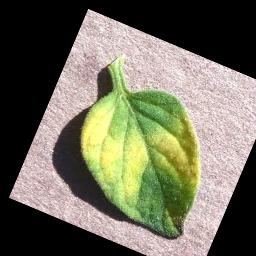Leaf_Mold: (53, 67, 231, 243)
